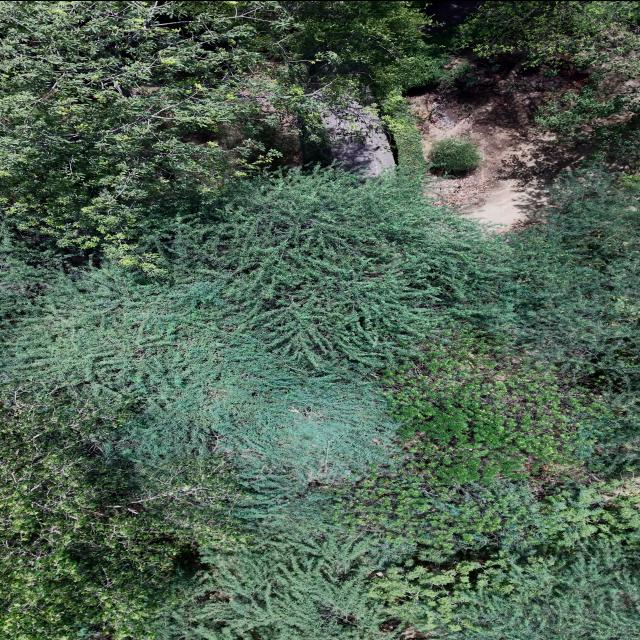DRY_AREA: (406, 55, 590, 230), (407, 55, 589, 230), (323, 103, 394, 175), (424, 1, 478, 34)
VEGETATION_TREE: (0, 1, 639, 639), (2, 170, 507, 504), (1, 1, 454, 273), (1, 1, 317, 272), (2, 262, 394, 480), (1, 382, 245, 639), (334, 332, 609, 553), (371, 484, 639, 639), (383, 336, 604, 484), (458, 1, 639, 160), (372, 539, 639, 639), (161, 534, 383, 639), (333, 462, 554, 556), (286, 1, 454, 95), (460, 1, 639, 70), (380, 94, 427, 174), (429, 138, 481, 171)
